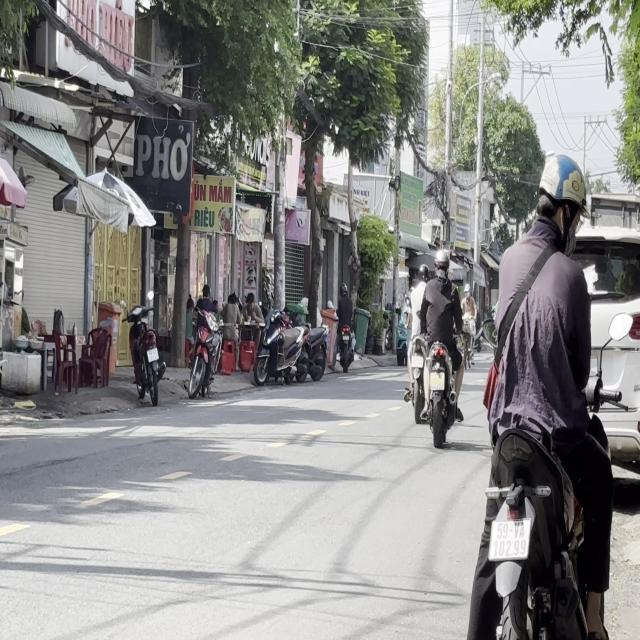helmet: (536, 151, 588, 244), (433, 248, 450, 278)
licenseplate: (466, 146, 623, 635), (420, 246, 466, 445)
nohelmet: (489, 518, 529, 558), (430, 372, 444, 389)
